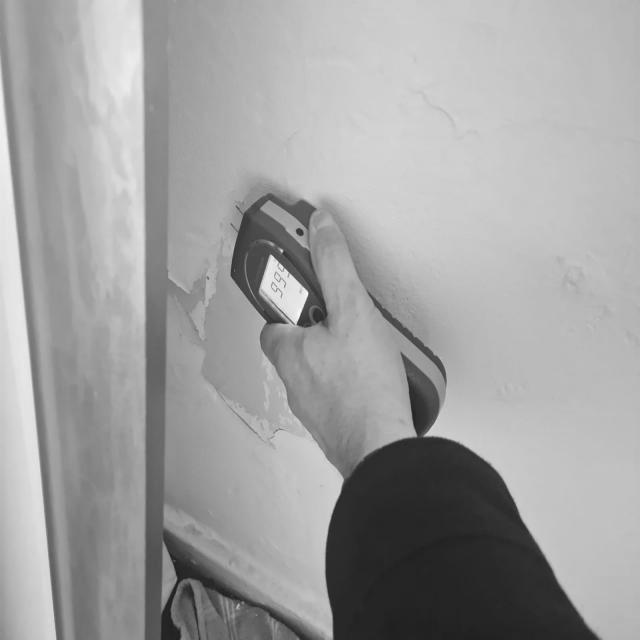peeling paint: (164, 178, 329, 467)
stain marks: (320, 46, 486, 164), (170, 0, 316, 132), (534, 236, 634, 348)
